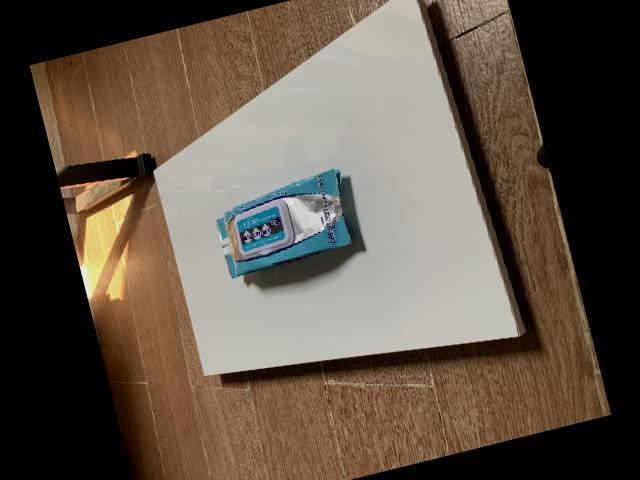Let-green_alcohol_wipes: (216, 168, 352, 277)
